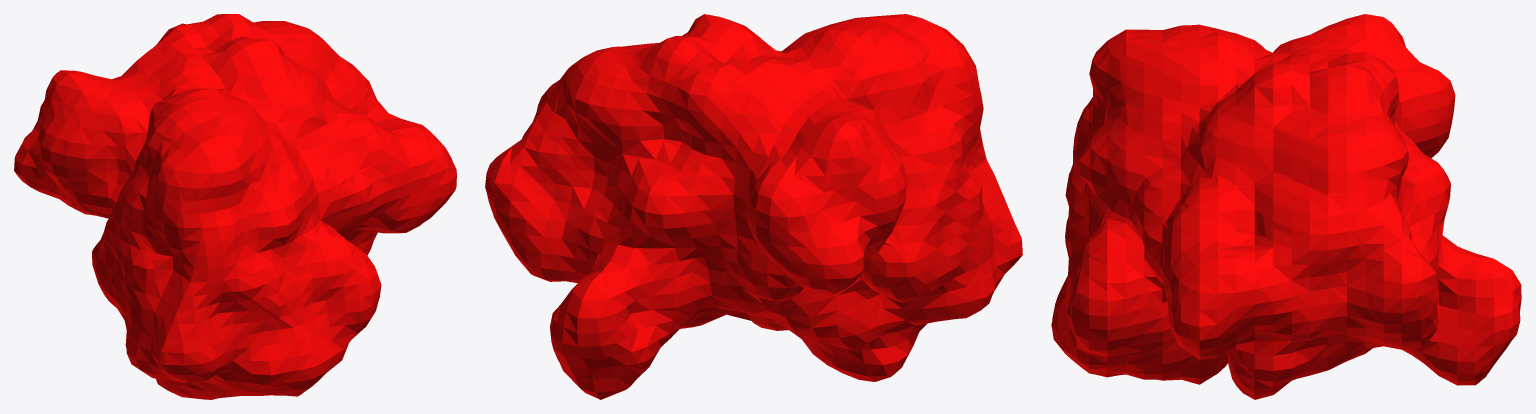
The model's file is glgP_coarse.dae.
The picture shows the model from 3 angles, left to right: view 1: azimuth 30°, elevation 25°; view 2: azimuth 150°, elevation 25°; view 3: azimuth 270°, elevation 25°; orthographic projection. The views are drawn at different scales.
Parts seen in each view (by area): view 1: glgP; view 2: glgP; view 3: glgP.
Part boxes in pixels (<box>): glgP: <box>14,14,456,399</box>; glgP: <box>485,14,1022,399</box>; glgP: <box>1051,14,1521,399</box>.
Bounding box in the file's own units: 81.86 × 69.54 × 83.02.
